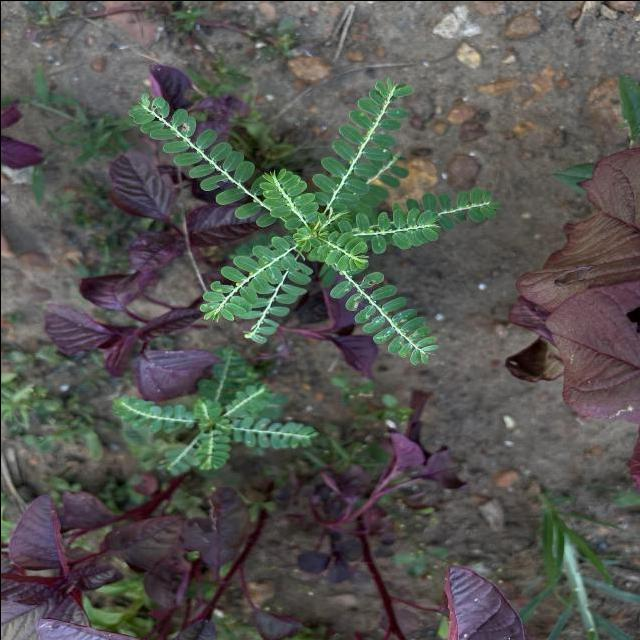Phyllanthus niruri: (126, 90, 279, 228), (311, 76, 414, 213), (328, 268, 440, 366), (197, 233, 303, 322), (349, 206, 442, 256), (256, 167, 318, 230), (316, 230, 373, 272)
